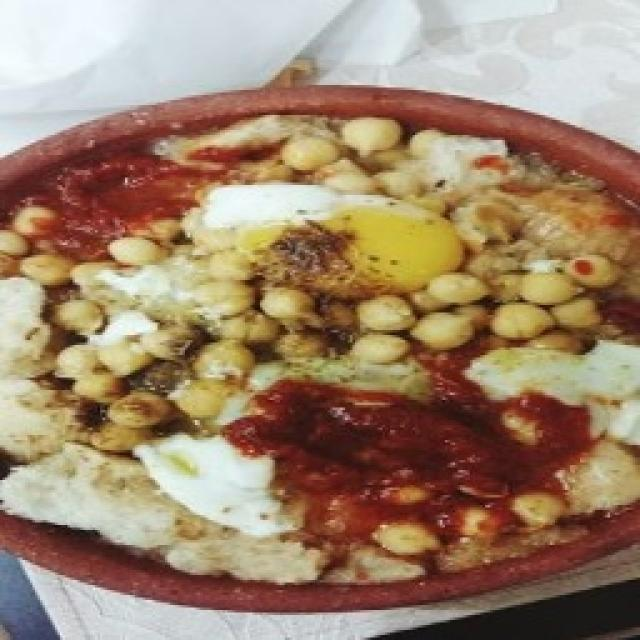Lablabi: (0, 85, 640, 640)
